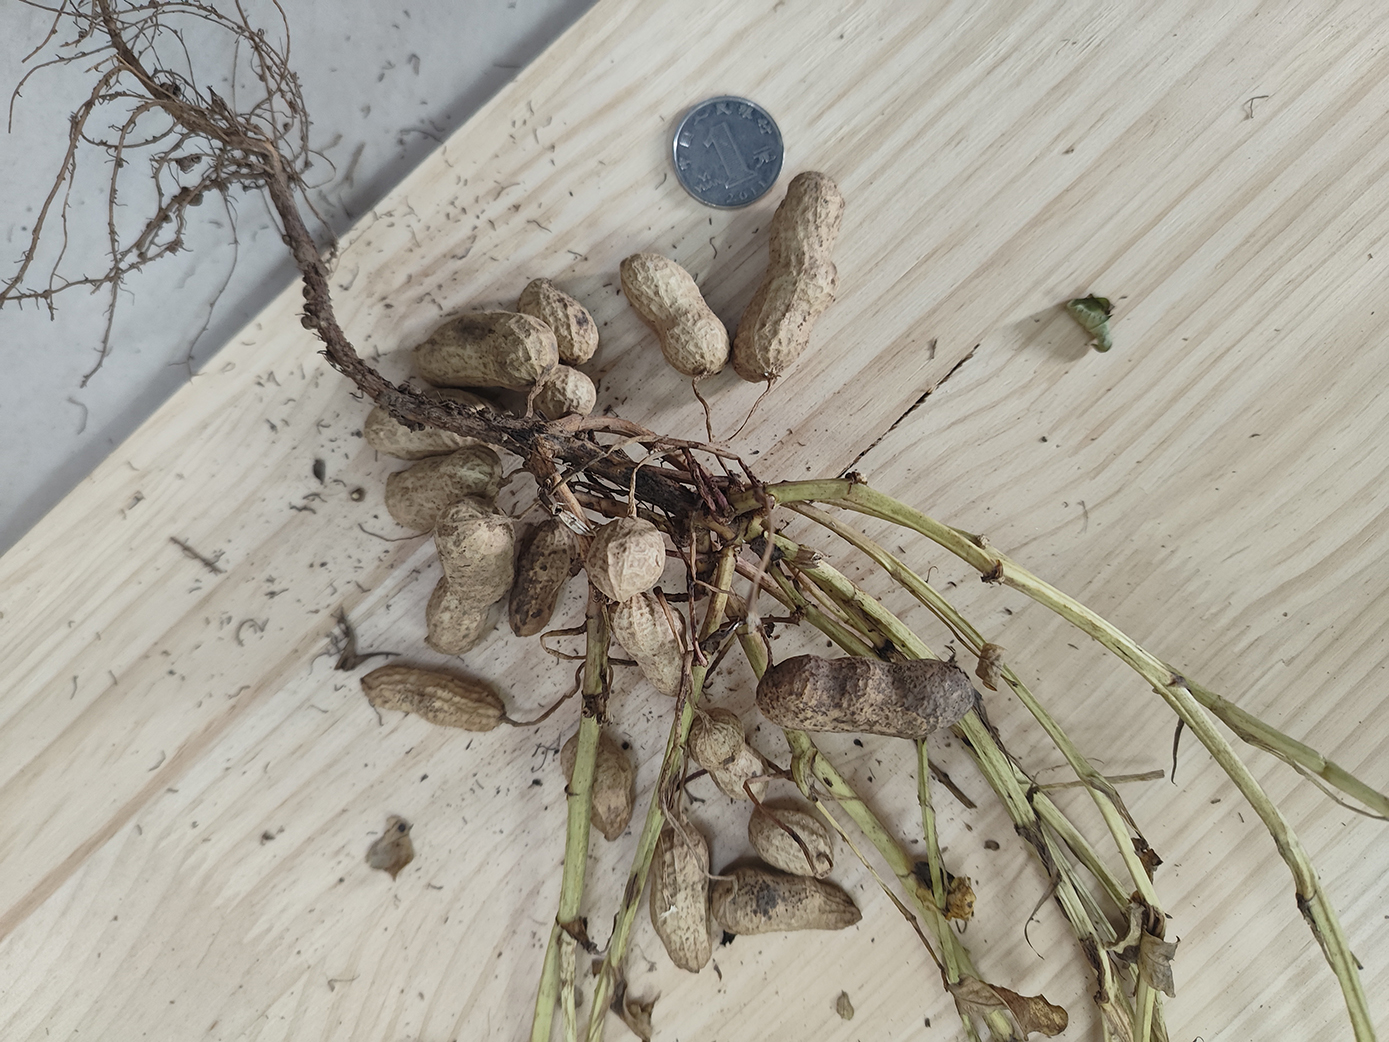h: (732, 170, 846, 384), (426, 500, 518, 657), (618, 252, 729, 381), (413, 310, 552, 390), (385, 450, 523, 530), (714, 862, 863, 934), (359, 668, 503, 733), (649, 820, 710, 973), (605, 597, 693, 701), (366, 395, 505, 459), (562, 729, 636, 842), (688, 709, 772, 803), (510, 519, 572, 642), (519, 276, 597, 362), (588, 516, 665, 599), (752, 804, 836, 879), (531, 364, 595, 424)
l: (756, 655, 973, 739)
